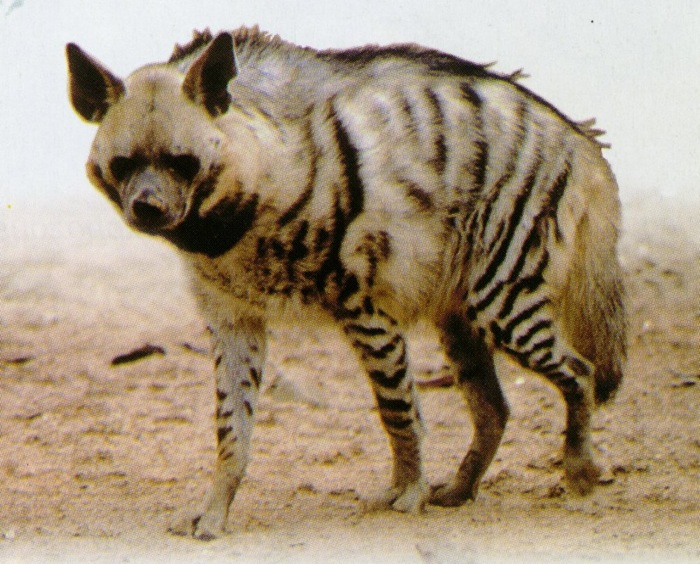hyena: (64, 22, 634, 536)
